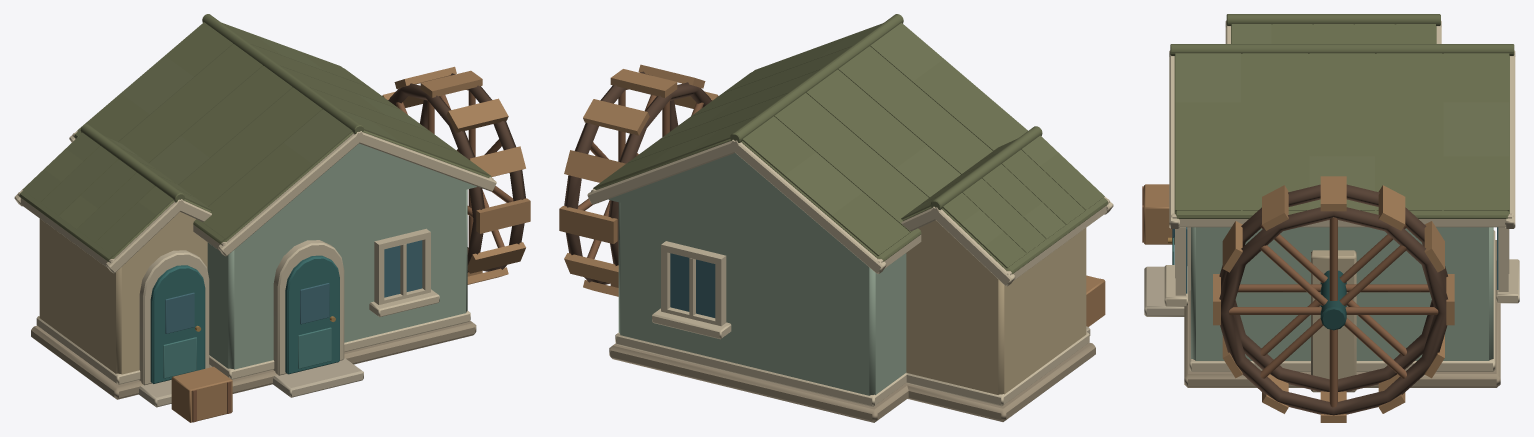
Rendered from watermill_level_2.glb.
The picture shows the model from 3 angles, left to right: view 1: azimuth 30°, elevation 25°; view 2: azimuth 150°, elevation 25°; view 3: azimuth 270°, elevation 25°; orthographic projection. The views are drawn at different scales.
Visible parts, largest first — view 1: watermill_level_2_runtime; view 2: watermill_level_2_runtime; view 3: watermill_level_2_runtime.
Boxes of the visible parts, box(x1,y1,x2,y2) form: watermill_level_2_runtime: box(14, 14, 530, 422); watermill_level_2_runtime: box(559, 14, 1113, 422); watermill_level_2_runtime: box(1142, 14, 1519, 422).
Bounding box in the file's own units: 6.41 × 3.53 × 4.36.
